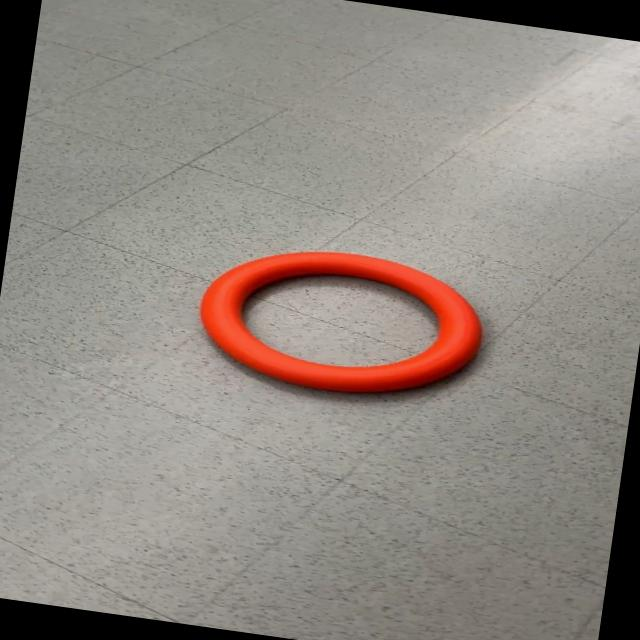note: (189, 232, 493, 412)
